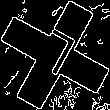L_SW: (29, 25, 81, 85)
